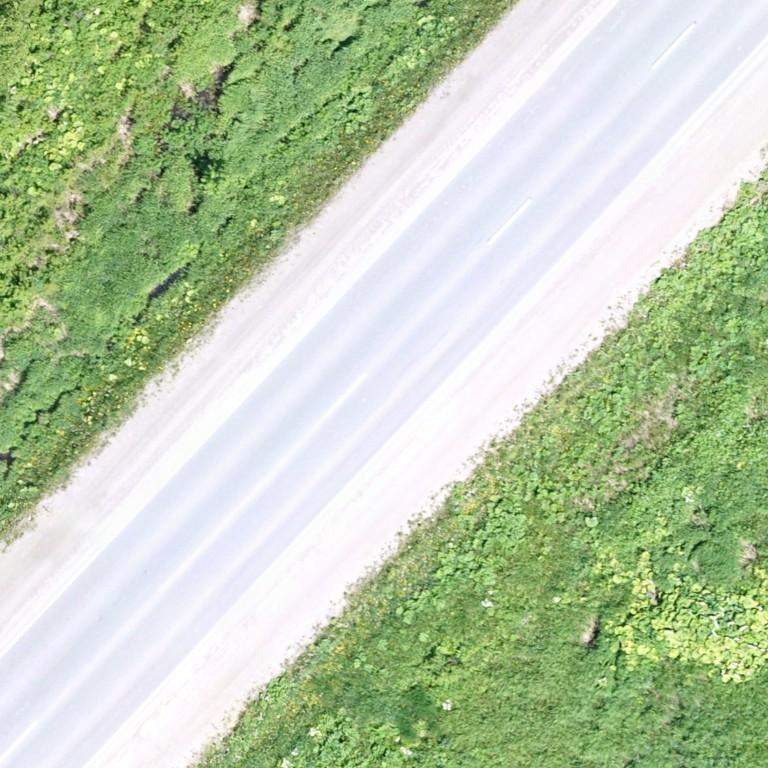hogweed: (300, 715, 409, 767)
